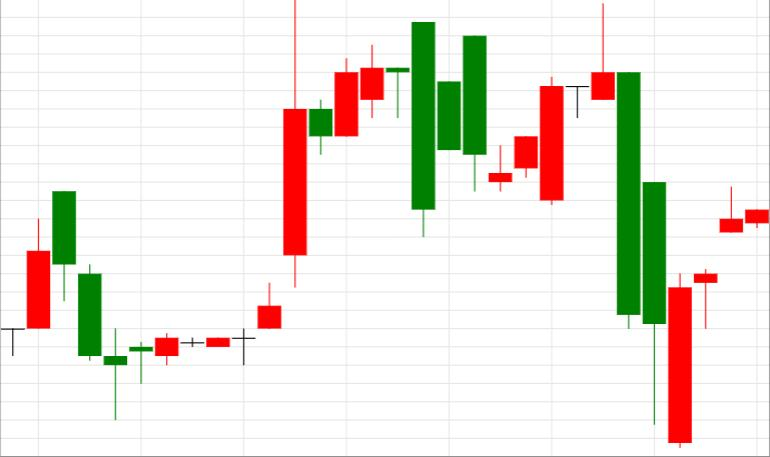shooting_star_fall: (488, 4, 615, 206)
